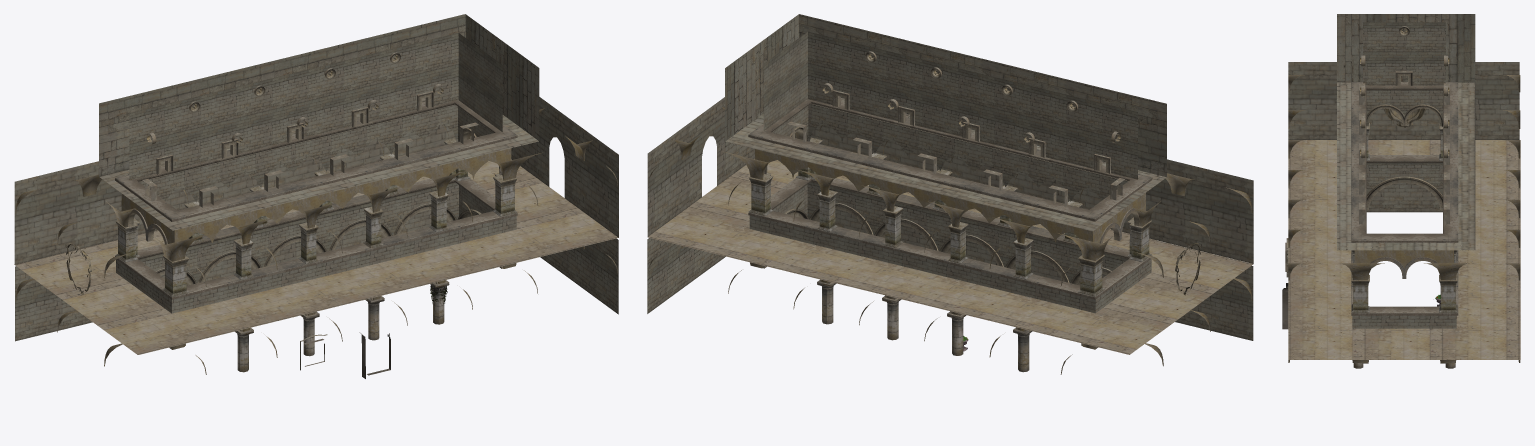
The model's file is SponzaLite.gltf.
3 views of the same model, side by side, from view 1: azimuth 30°, elevation 25°; view 2: azimuth 150°, elevation 25°; view 3: azimuth 270°, elevation 25° (orthographic). The views are drawn at different scales.
Bounding box in the file's own units: 21.88 × 10.54 × 10.
Materials: 11 (11 with a texture image).
